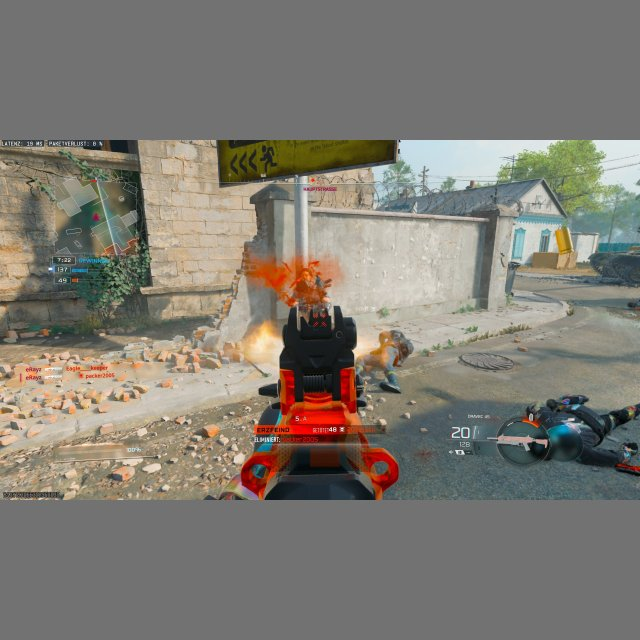player: (286, 268, 334, 308)
